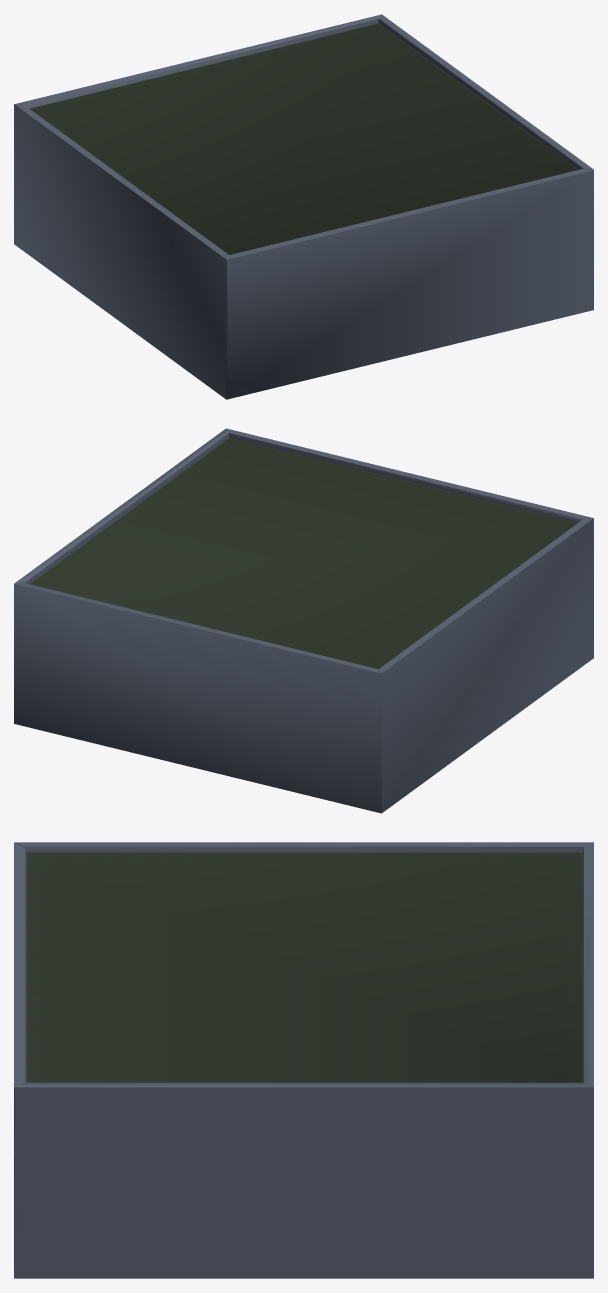
File: B07VDD6B6S.glb
3 renders of one model, top to bottom at view 1: azimuth 30°, elevation 25°; view 2: azimuth 150°, elevation 25°; view 3: azimuth 270°, elevation 25°, orthographic. The views are drawn at different scales.
Parts seen in each view (by area): view 1: RootNode; view 2: RootNode; view 3: RootNode.
Boxes of the visible parts, x1=… form: RootNode: x1=14, y1=14, x2=593, y2=399; RootNode: x1=14, y1=428, x2=593, y2=813; RootNode: x1=14, y1=842, x2=593, y2=1278.
Size of the model in its own units: 0.8007 by 0.2994 by 0.8013.
1 material, 1 textured.
